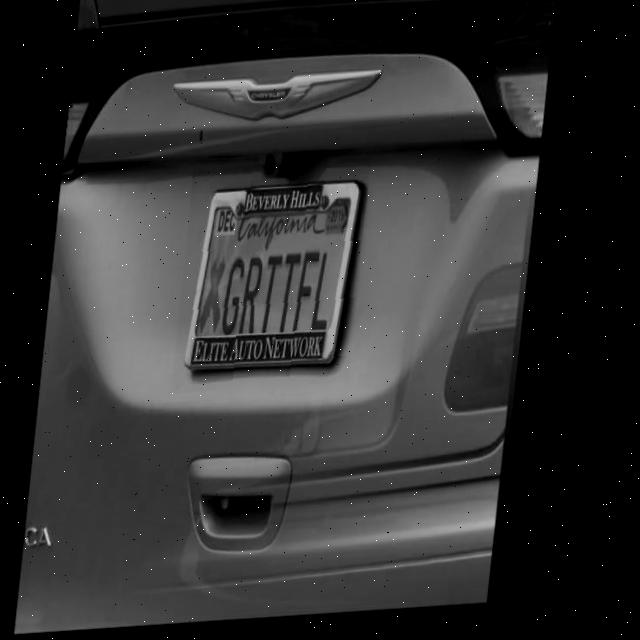LicensePlate: (180, 163, 375, 397)
